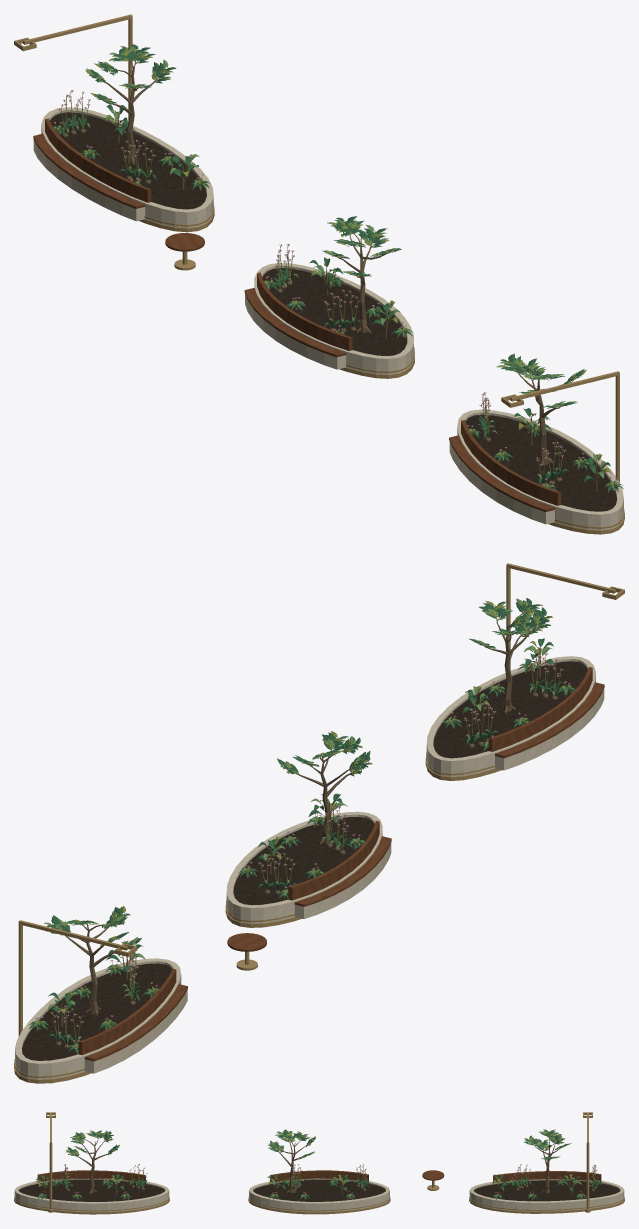
The model's file is G7_Completion_R006_G7C6_D09_ComposedEdge.glb.
3 renders of one model, top to bottom at view 1: azimuth 30°, elevation 25°; view 2: azimuth 150°, elevation 25°; view 3: azimuth 270°, elevation 25°, orthographic. The views are drawn at different scales.
Parts seen in each view (by area): view 1: G7C6_D09_ComposedEdge_G7C6_soil_solid_planter, G7C6_D09_ComposedEdge_G7C6_wood_solid_furniture, G7C6_D09_ComposedEdge_G7C6_stone_solid_planter, G7C6_D09_ComposedEdge_G7C6_stone_solid_furniture, G7C6_D09_ComposedEdge_ASTRAEA_botanical_leaf_jade_visual_fol, G7C6_D09_ComposedEdge_ASTRAEA_botanical_bark_solid_tree_bark, G7C6_D09_ComposedEdge_G7C6_metal_solid_fixture, G7C6_D09_ComposedEdge_G7C6_metal_solid_planter, G7C6_D09_ComposedEdge_ASTRAEA_botanical_leaf_olive.004_visua, G7C6_D09_ComposedEdge_ASTRAEA_botanical_leaf_sage_visual_fol, G7C6_D09_ComposedEdge_ASTRAEA_botanical_leaf_jade.004_visual, G7C6_D09_ComposedEdge_ASTRAEA_botanical_leaf_olive_visual_fo (+3 smaller); view 2: G7C6_D09_ComposedEdge_G7C6_soil_solid_planter, G7C6_D09_ComposedEdge_G7C6_wood_solid_furniture, G7C6_D09_ComposedEdge_G7C6_stone_solid_planter, G7C6_D09_ComposedEdge_G7C6_stone_solid_furniture, G7C6_D09_ComposedEdge_ASTRAEA_botanical_leaf_jade_visual_fol, G7C6_D09_ComposedEdge_ASTRAEA_botanical_bark_solid_tree_bark, G7C6_D09_ComposedEdge_G7C6_metal_solid_fixture, G7C6_D09_ComposedEdge_G7C6_metal_solid_planter, G7C6_D09_ComposedEdge_ASTRAEA_botanical_leaf_olive.004_visua, G7C6_D09_ComposedEdge_ASTRAEA_botanical_leaf_jade.002_visual, G7C6_D09_ComposedEdge_ASTRAEA_botanical_leaf_jade.001_visual, G7C6_D09_ComposedEdge_ASTRAEA_botanical_leaf_jade.004_visual (+3 smaller); view 3: G7C6_D09_ComposedEdge_G7C6_soil_solid_planter, G7C6_D09_ComposedEdge_G7C6_stone_solid_planter, G7C6_D09_ComposedEdge_G7C6_wood_solid_furniture, G7C6_D09_ComposedEdge_G7C6_metal_solid_planter, G7C6_D09_ComposedEdge_ASTRAEA_botanical_leaf_jade_visual_fol, G7C6_D09_ComposedEdge_ASTRAEA_botanical_bark_solid_tree_bark, G7C6_D09_ComposedEdge_G7C6_metal_solid_fixture, G7C6_D09_ComposedEdge_ASTRAEA_botanical_leaf_olive.004_visua, G7C6_D09_ComposedEdge_ASTRAEA_botanical_leaf_olive_visual_fo, G7C6_D09_ComposedEdge_ASTRAEA_botanical_leaf_sage_visual_fol, G7C6_D09_ComposedEdge_ASTRAEA_botanical_leaf_jade.002_visual, G7C6_D09_ComposedEdge_ASTRAEA_botanical_leaf_jade.001_visual (+7 smaller).
Part boxes in pixels (x1,y1,x2,y2): G7C6_D09_ComposedEdge_G7C6_soil_solid_planter: (50,112,616,511); G7C6_D09_ComposedEdge_G7C6_wood_solid_furniture: (33,118,561,512); G7C6_D09_ComposedEdge_G7C6_stone_solid_planter: (41,107,623,530); G7C6_D09_ComposedEdge_G7C6_stone_solid_furniture: (33,139,554,524); G7C6_D09_ComposedEdge_ASTRAEA_botanical_leaf_jade_visual_fol: (89,44,585,408); G7C6_D09_ComposedEdge_ASTRAEA_botanical_bark_solid_tree_bark: (89,49,581,466); G7C6_D09_ComposedEdge_G7C6_metal_solid_fixture: (14,14,619,483); G7C6_D09_ComposedEdge_G7C6_metal_solid_planter: (138,203,624,534); G7C6_D09_ComposedEdge_ASTRAEA_botanical_leaf_olive.004_visua: (59,91,564,483); G7C6_D09_ComposedEdge_ASTRAEA_botanical_leaf_sage_visual_fol: (85,45,579,406); G7C6_D09_ComposedEdge_ASTRAEA_botanical_leaf_jade.004_visual: (55,113,568,484); G7C6_D09_ComposedEdge_ASTRAEA_botanical_leaf_olive_visual_fo: (86,48,586,406); G7C6_D09_ComposedEdge_G7C6_soil_solid_planter: (22,661,587,1060); G7C6_D09_ComposedEdge_G7C6_wood_solid_furniture: (78,667,604,1061); G7C6_D09_ComposedEdge_G7C6_stone_solid_planter: (15,656,595,1079); G7C6_D09_ComposedEdge_G7C6_stone_solid_furniture: (84,688,604,1073); G7C6_D09_ComposedEdge_ASTRAEA_botanical_leaf_jade_visual_fol: (48,598,550,944); G7C6_D09_ComposedEdge_ASTRAEA_botanical_bark_solid_tree_bark: (51,605,547,1015); G7C6_D09_ComposedEdge_G7C6_metal_solid_fixture: (16,563,624,1043); G7C6_D09_ComposedEdge_G7C6_metal_solid_planter: (14,752,501,1083); G7C6_D09_ComposedEdge_ASTRAEA_botanical_leaf_olive.004_visua: (51,654,561,1044); G7C6_D09_ComposedEdge_ASTRAEA_botanical_leaf_jade.002_visual: (29,664,575,1054); G7C6_D09_ComposedEdge_ASTRAEA_botanical_leaf_jade.001_visual: (48,638,553,1012); G7C6_D09_ComposedEdge_ASTRAEA_botanical_leaf_jade.004_visual: (47,679,564,1044); G7C6_D09_ComposedEdge_G7C6_soil_solid_planter: (19,1179,620,1201); G7C6_D09_ComposedEdge_G7C6_stone_solid_planter: (14,1178,624,1212); G7C6_D09_ComposedEdge_G7C6_wood_solid_furniture: (37,1170,601,1183); G7C6_D09_ComposedEdge_G7C6_metal_solid_planter: (14,1197,624,1214); G7C6_D09_ComposedEdge_ASTRAEA_botanical_leaf_jade_visual_fol: (65,1129,567,1159); G7C6_D09_ComposedEdge_ASTRAEA_botanical_bark_solid_tree_bark: (72,1136,565,1194); G7C6_D09_ComposedEdge_G7C6_metal_solid_fixture: (46,1112,592,1212); G7C6_D09_ComposedEdge_ASTRAEA_botanical_leaf_olive.004_visua: (65,1165,596,1189); G7C6_D09_ComposedEdge_ASTRAEA_botanical_leaf_olive_visual_fo: (67,1129,568,1158); G7C6_D09_ComposedEdge_ASTRAEA_botanical_leaf_sage_visual_fol: (68,1130,571,1158); G7C6_D09_ComposedEdge_ASTRAEA_botanical_leaf_jade.002_visual: (37,1180,601,1200); G7C6_D09_ComposedEdge_ASTRAEA_botanical_leaf_jade.001_visual: (36,1174,580,1191).
Bounding box in the file's own units: 3.43 × 3.39 × 26.85.
23 materials, 22 textured.
